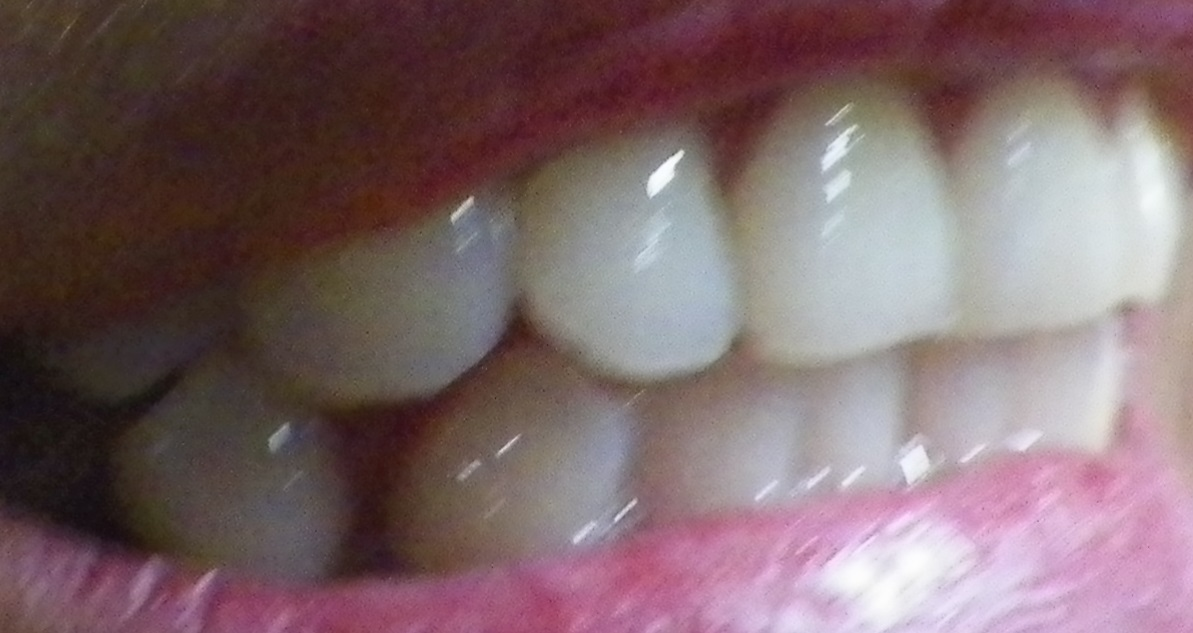boca: (105, 82, 1177, 573)
